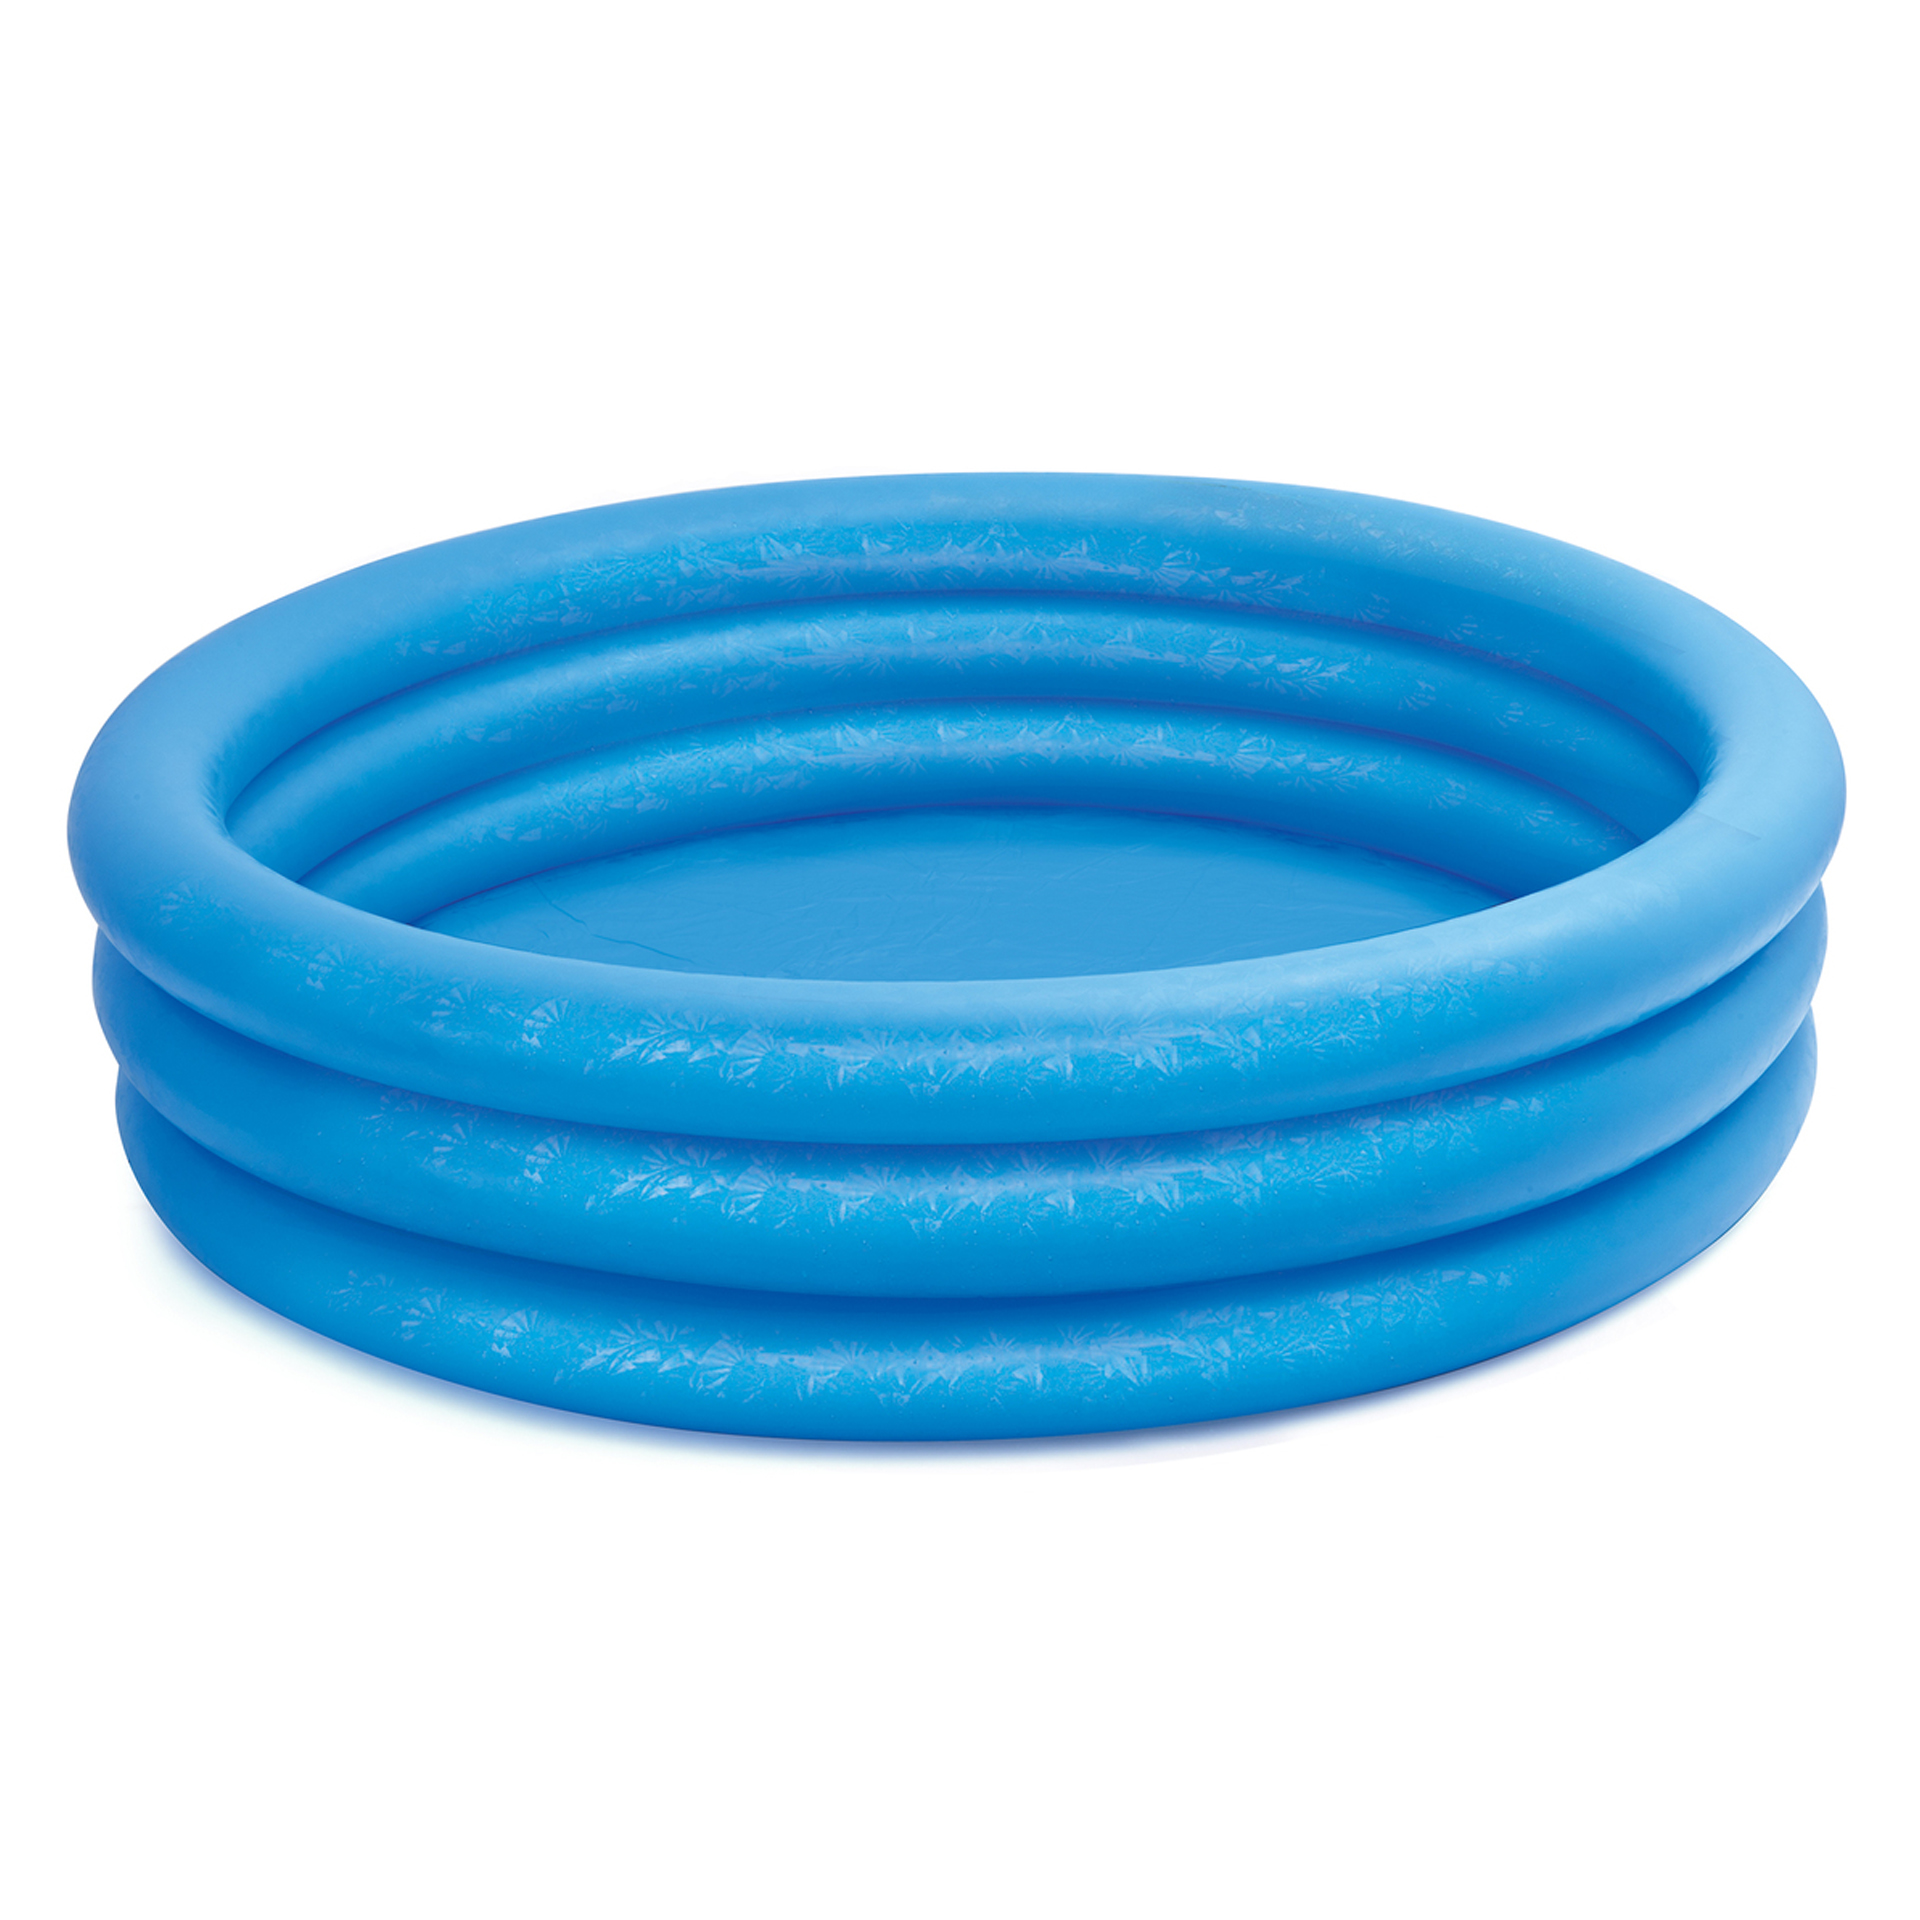havuz: (69, 468, 1846, 1465)
